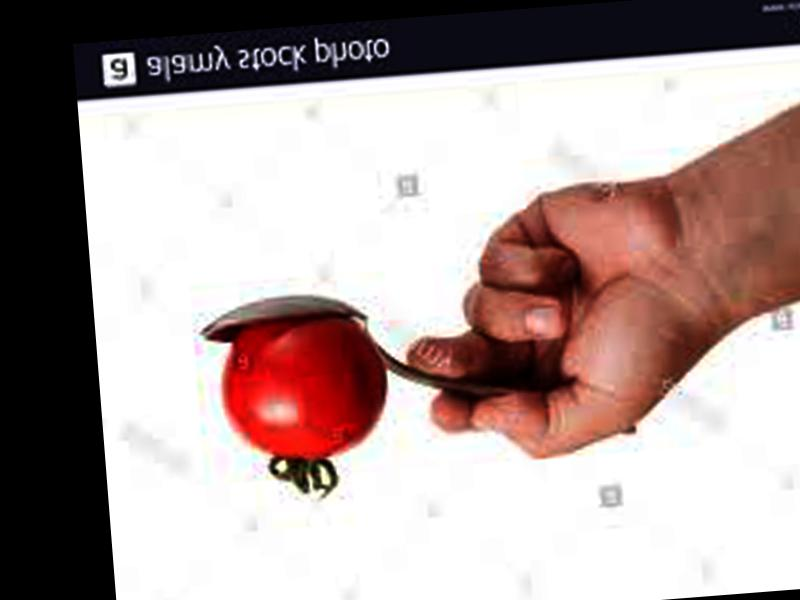Tomato: (220, 314, 393, 466)
